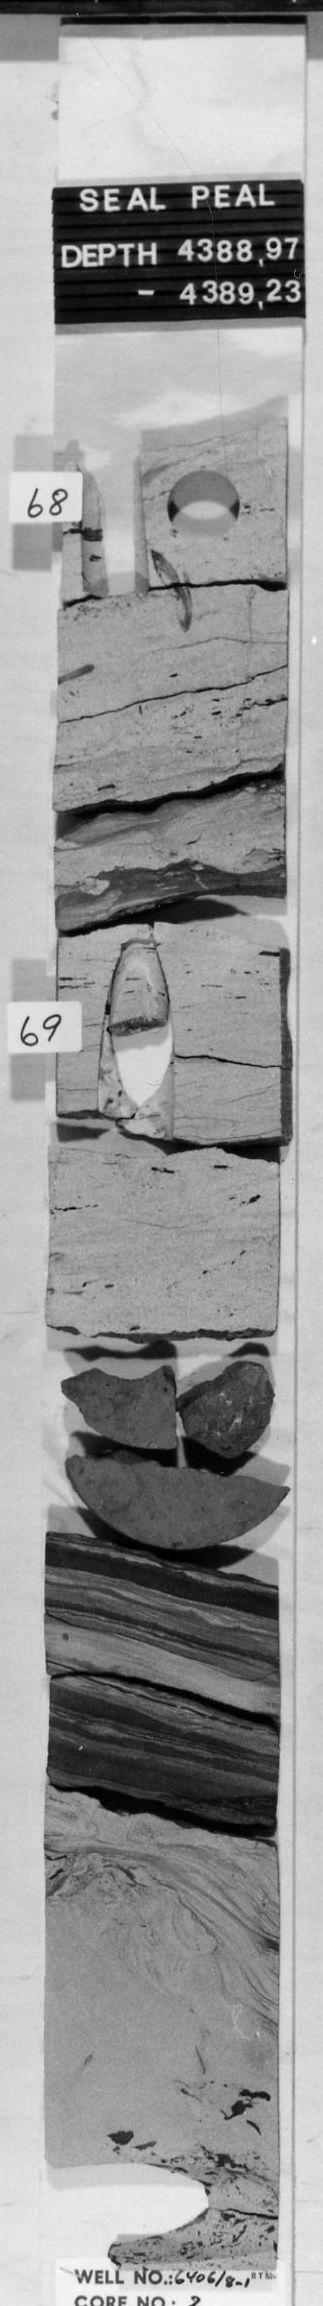hplug: (166, 468, 248, 547)
scal: (48, 2146, 231, 2260)
vplug: (90, 932, 182, 1143), (72, 460, 161, 597)
